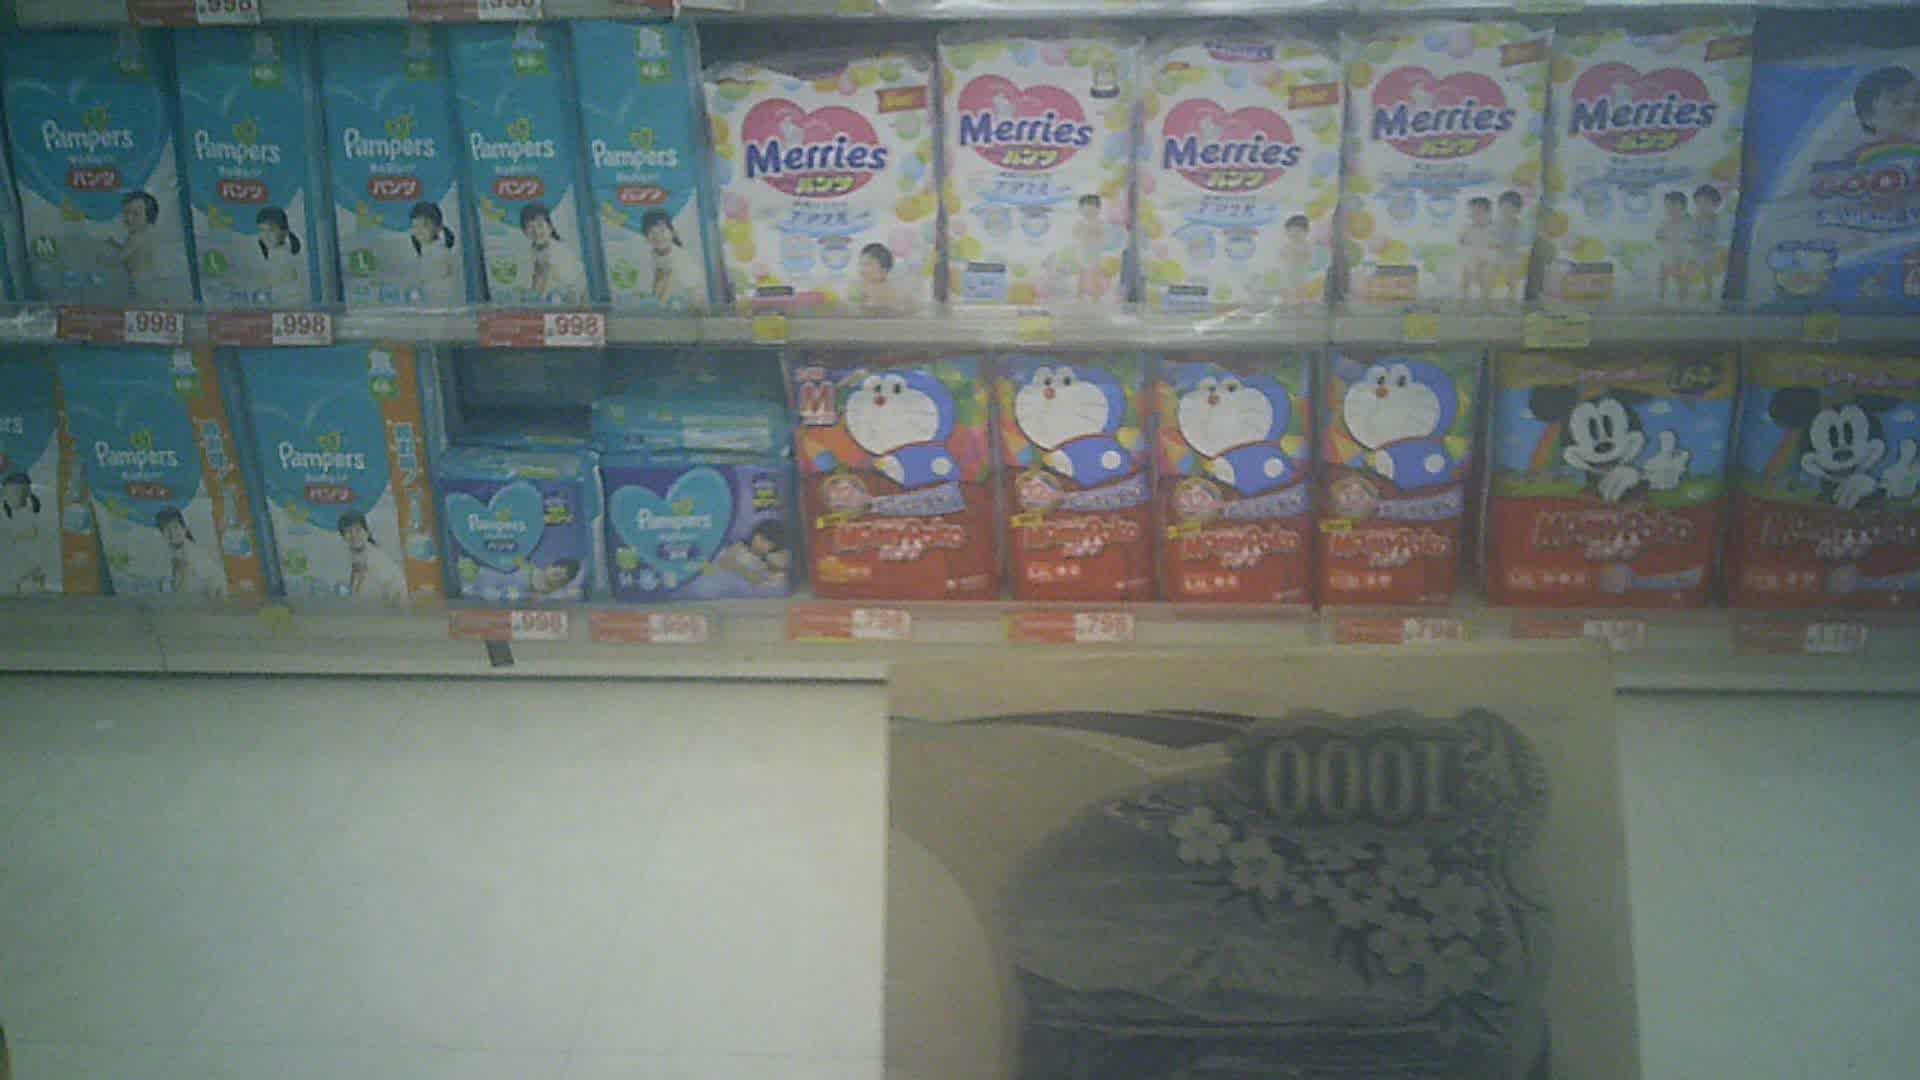1,000 Yen: (887, 659, 1607, 1079)
